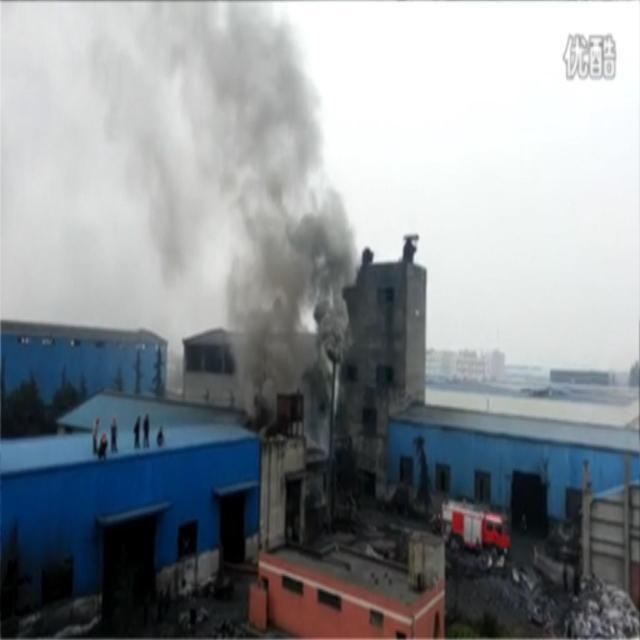Smoke: (86, 1, 362, 456)
